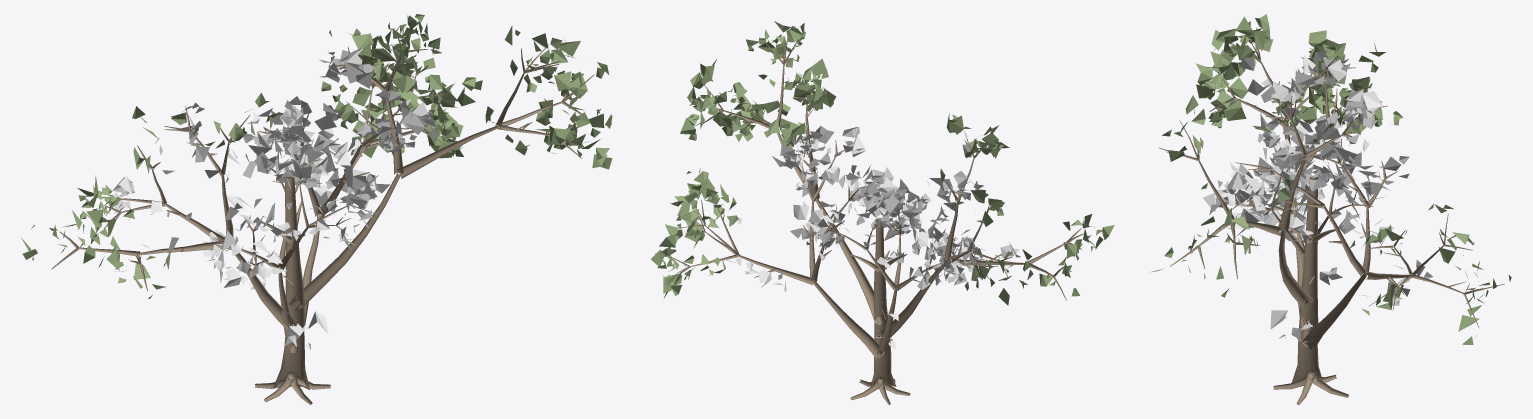
Rendered from tree-e.glb.
3 views of the same model, side by side, from view 1: azimuth 30°, elevation 25°; view 2: azimuth 150°, elevation 25°; view 3: azimuth 270°, elevation 25° (orthographic). The views are drawn at different scales.
Parts seen in each view (by area): view 1: leafDeep, leaf, wood; view 2: leaf, leafDeep, wood; view 3: leafDeep, wood, leaf.
Boxes of the visible parts, <box> form: leafDeep: <box>112,47,436,350</box>; leaf: <box>21,14,612,298</box>; wood: <box>51,29,594,404</box>; leaf: <box>651,21,1114,305</box>; leafDeep: <box>726,126,1020,349</box>; wood: <box>662,37,1083,404</box>; leafDeep: <box>1203,50,1432,341</box>; wood: <box>1159,42,1504,404</box>; leaf: <box>1150,14,1511,344</box>.
Size of the model in its own units: 22.6 by 14.67 by 13.56.
